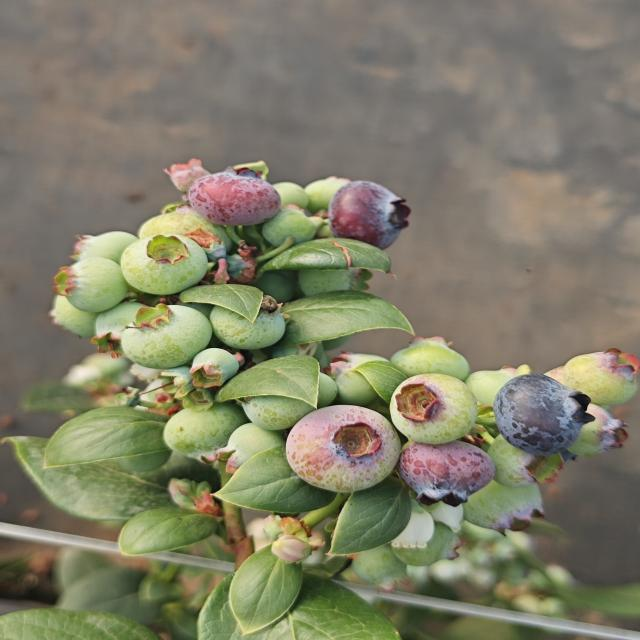ripe: (490, 372, 597, 459), (325, 179, 413, 251)
